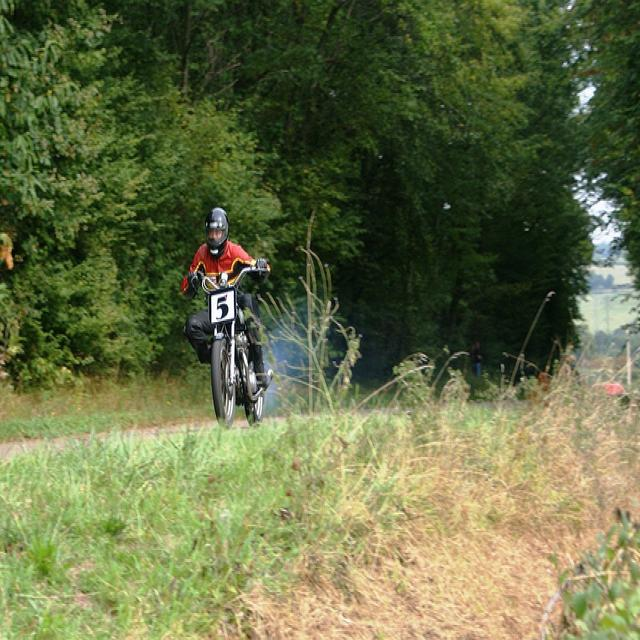motor: (189, 259, 275, 428)
